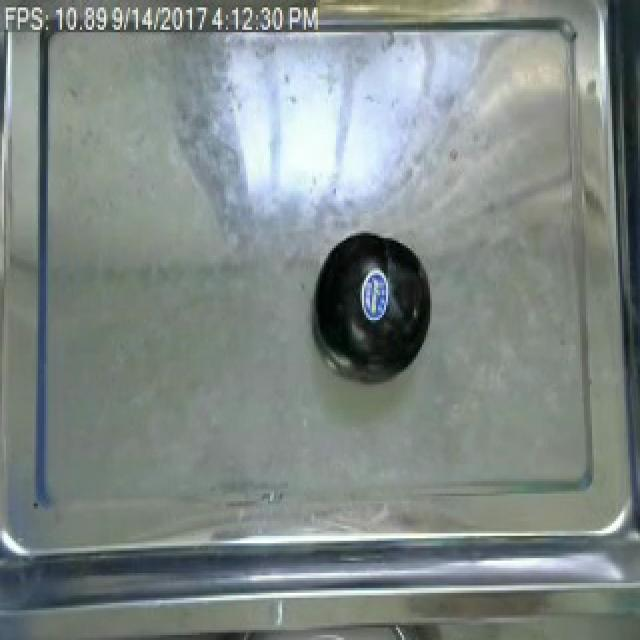Fruit: (306, 226, 434, 377)
